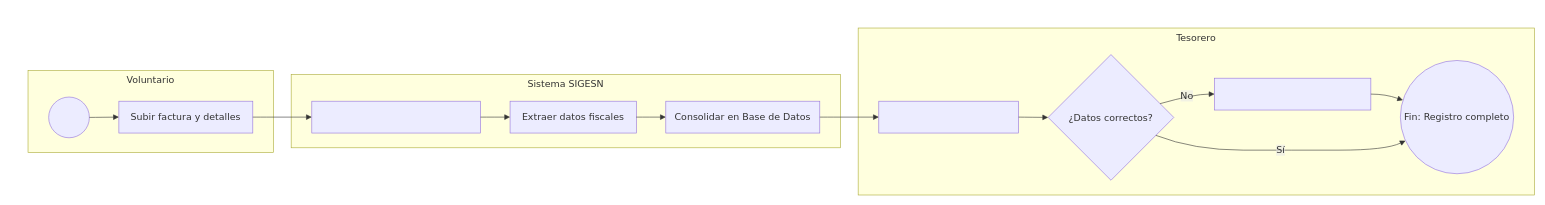
This 1545x205 diagram has some shape labels left out. Each missing label, with the centre of its shape:
"Almacenar PDF en Google Drive" belongs at (x=396, y=117).
"Corregir datos manualmente" belongs at (x=1292, y=94).
"Inicio" belongs at (x=68, y=117).
"Revisar y validar registro" belongs at (x=948, y=117).
